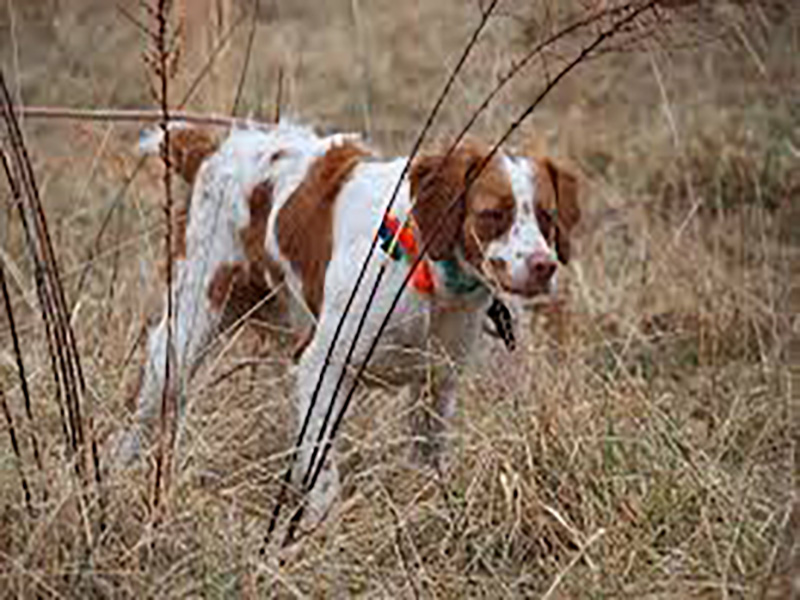cane da caccia: (134, 99, 588, 523)
